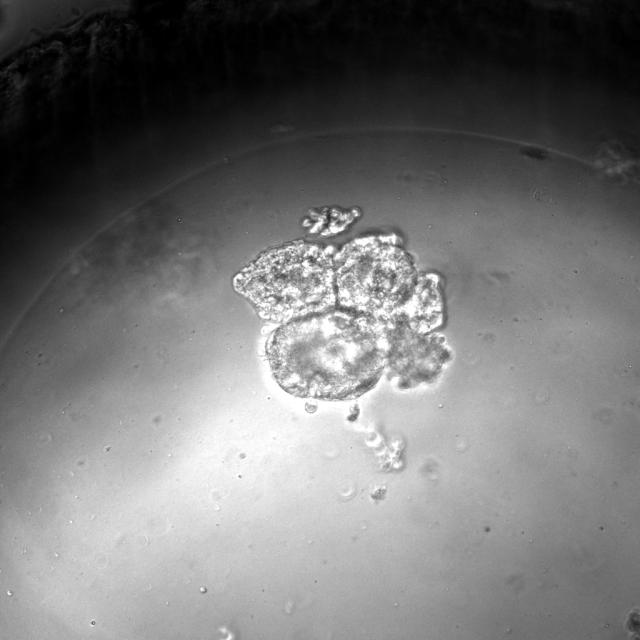organoid: (233, 234, 450, 400), (301, 205, 362, 237), (365, 428, 404, 472), (625, 609, 639, 639), (346, 403, 359, 423), (304, 400, 318, 413)
